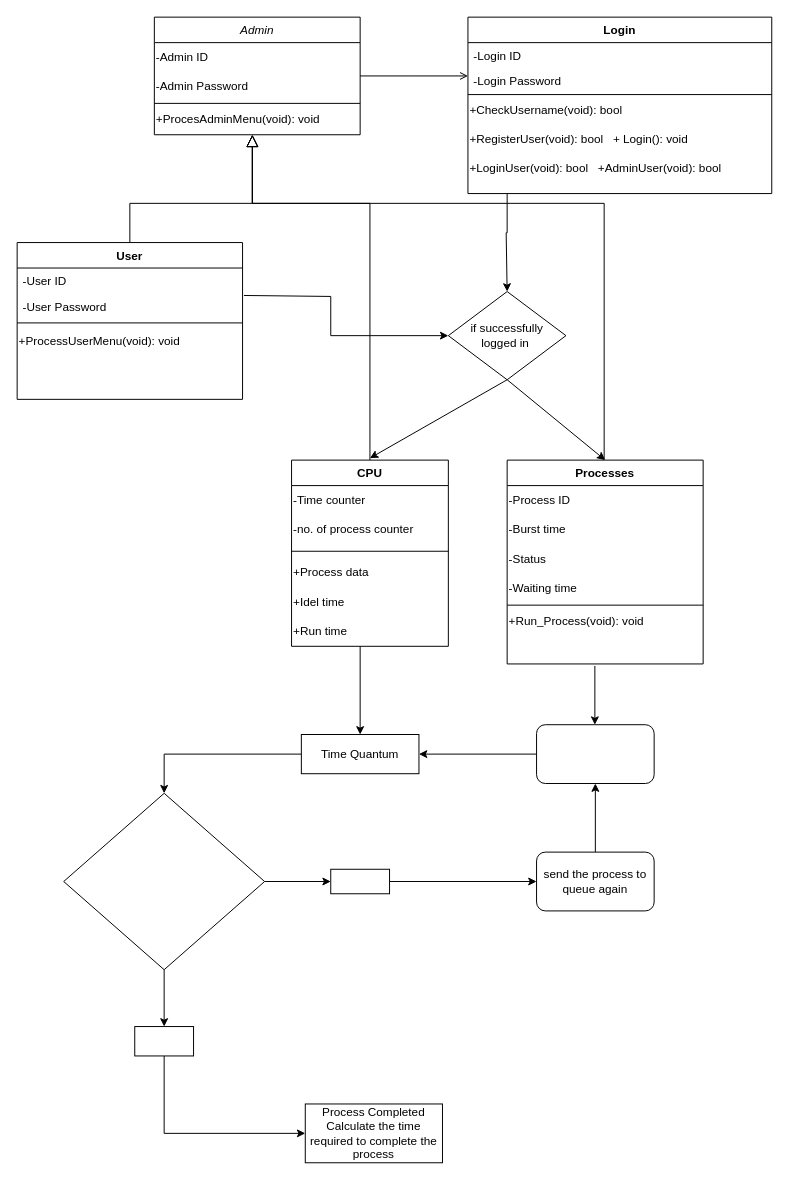
This 789x1180 diagram has some shape labels left out. Each missing label, with the centre of its shape:
"NO" belongs at pixel 164 1041.
"Process sent in a queue to CPU for processing" belongs at pixel 595 754.
"remaining time < time Quantum" belongs at pixel 164 881.
"yes" belongs at pixel 360 881.
